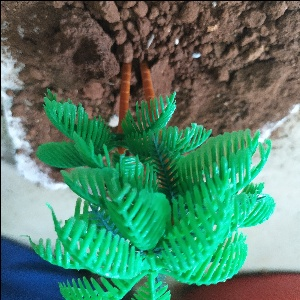plant: (37, 71, 245, 291)
